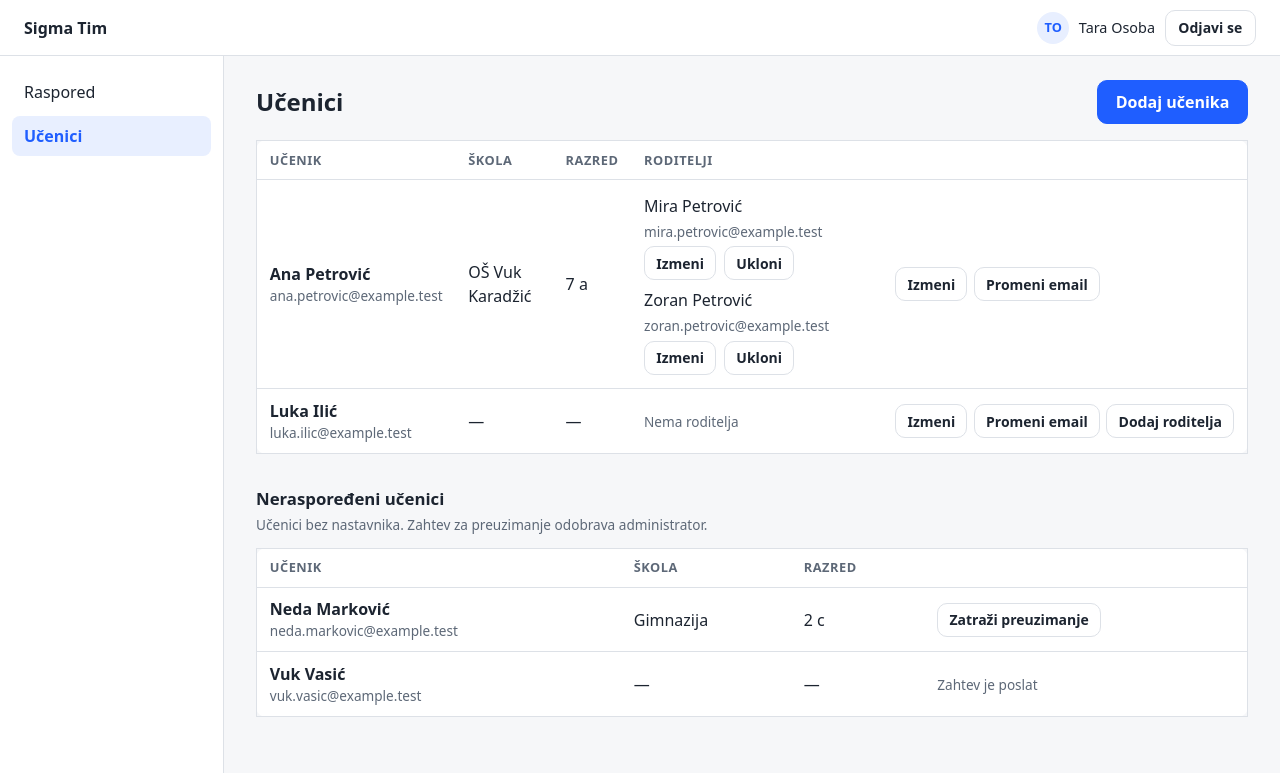
Test: the teacher's students › parents › adds a parent to a student
Click the button with aria-label "Dodaj roditelja učeniku Luka Ilić". click: (1170,421)
box: [1106,404,1234,438]
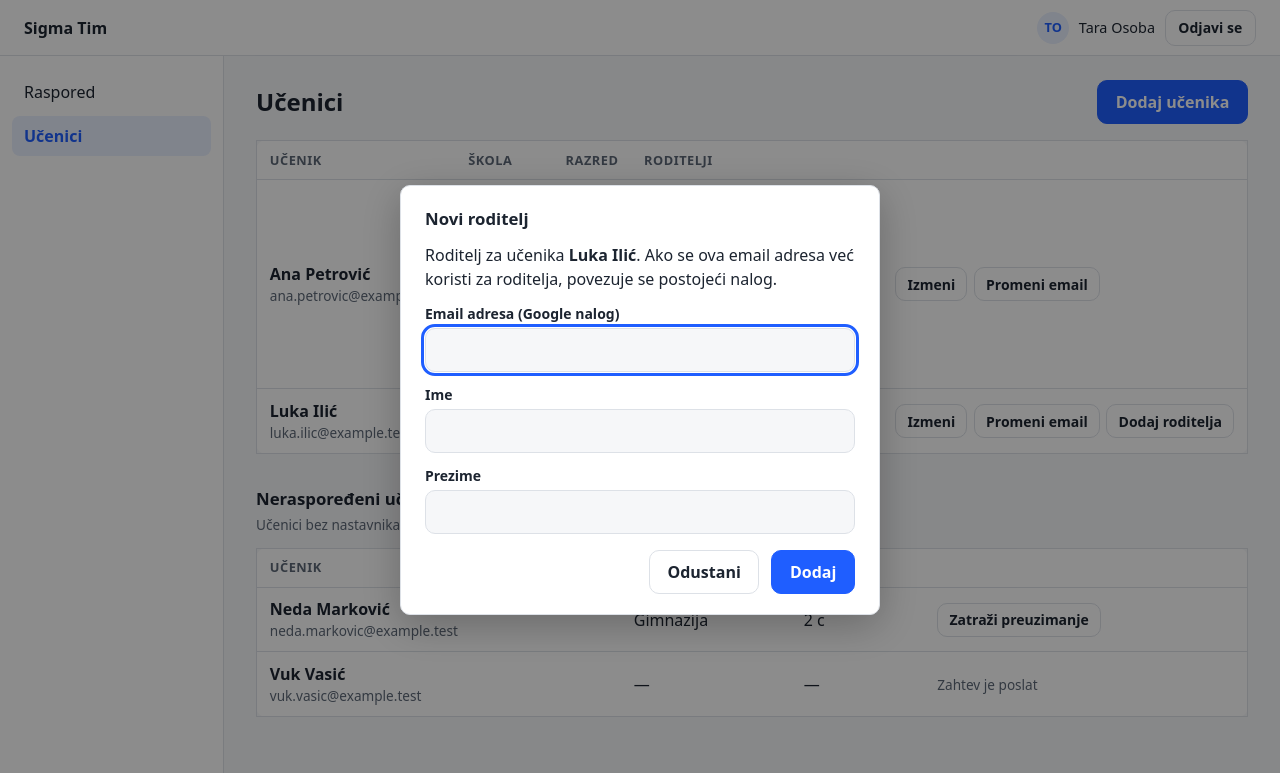
Type "Jelena.Ilic@example.test" into the field labelled "Email adresa (Google nalog)". click: (640,350)
box: [425,328,855,372]
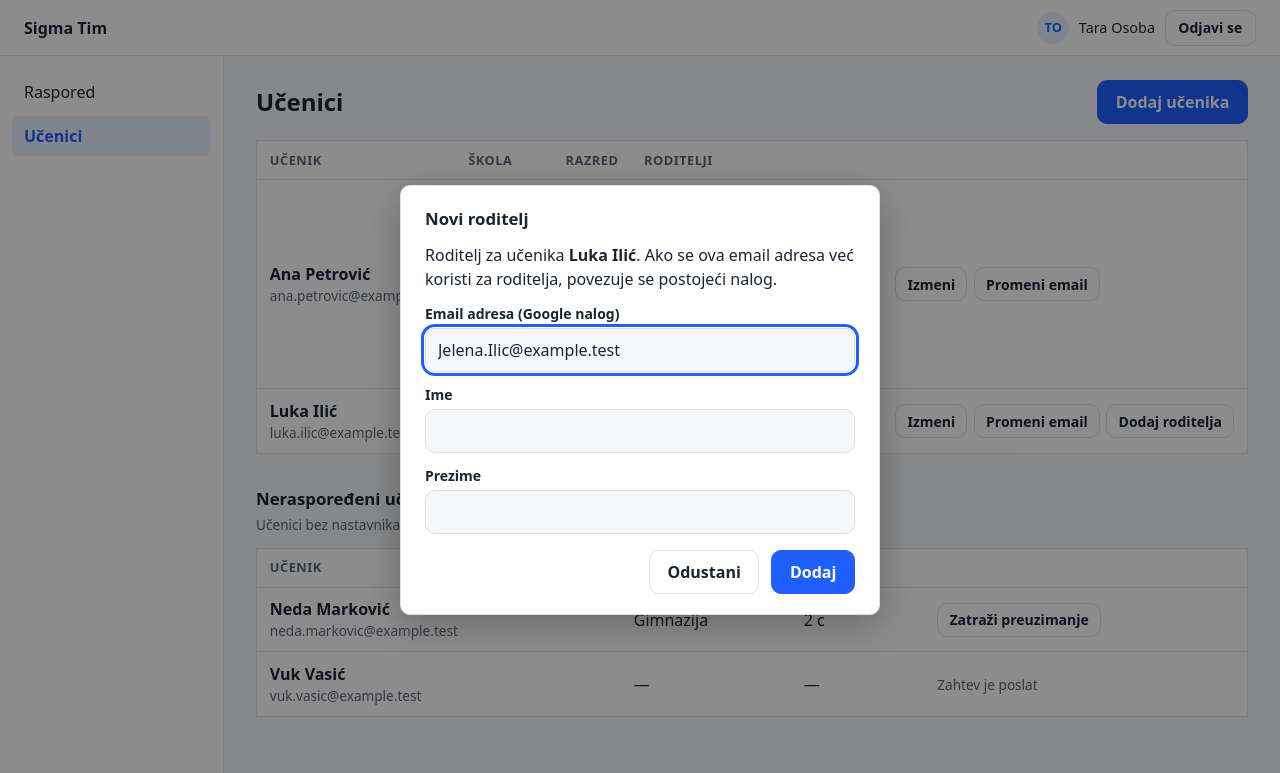
Type "Jelena" into the field labelled "Ime". click: (640,431)
box: [425,409,855,453]
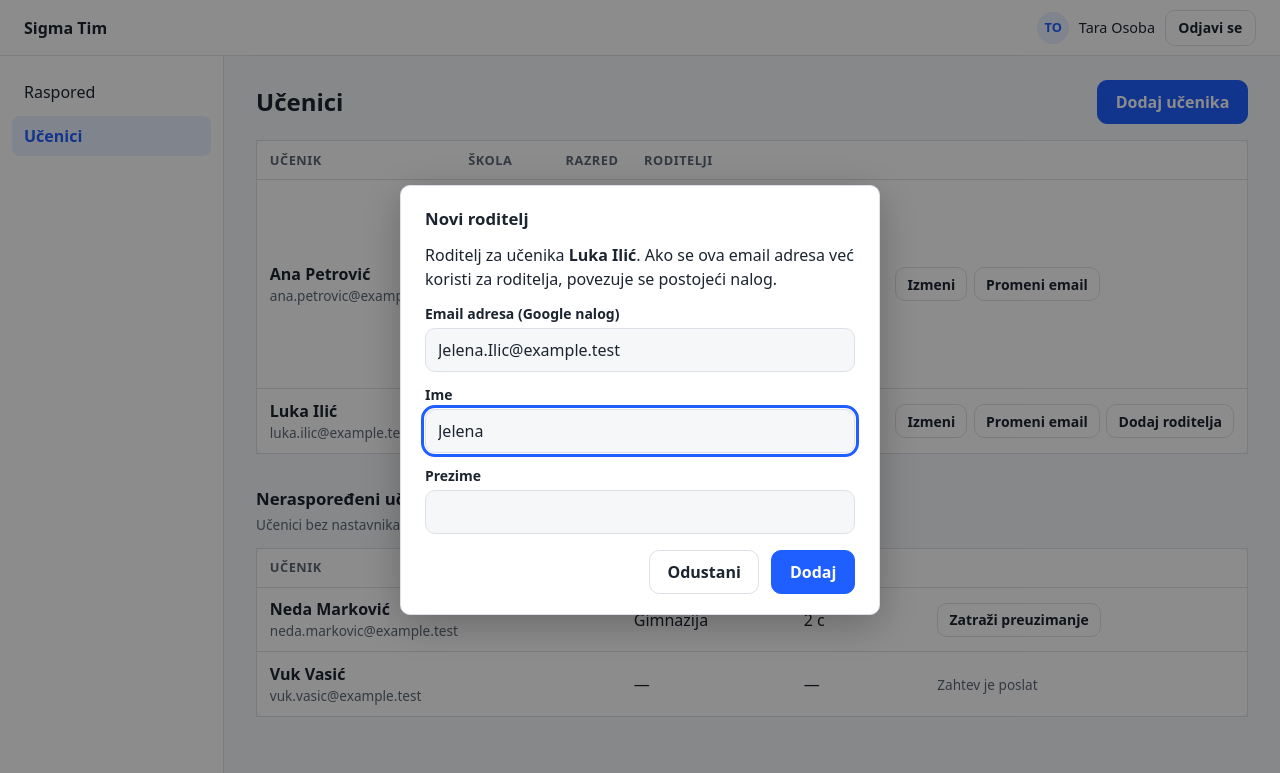
Type "Ilić" into the field labelled "Prezime". click: (640,512)
box: [425,490,855,534]
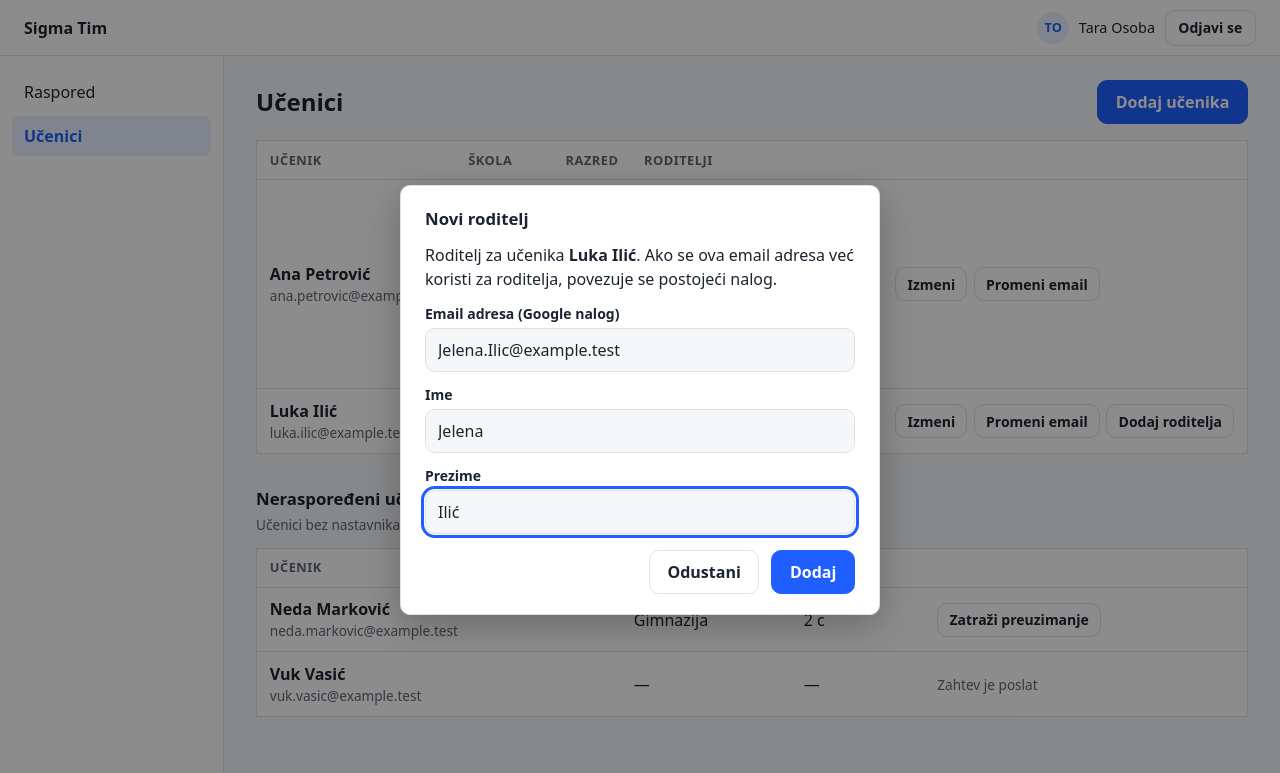
Click the button "Dodaj". click: (813,572)
box: [771,550,855,594]
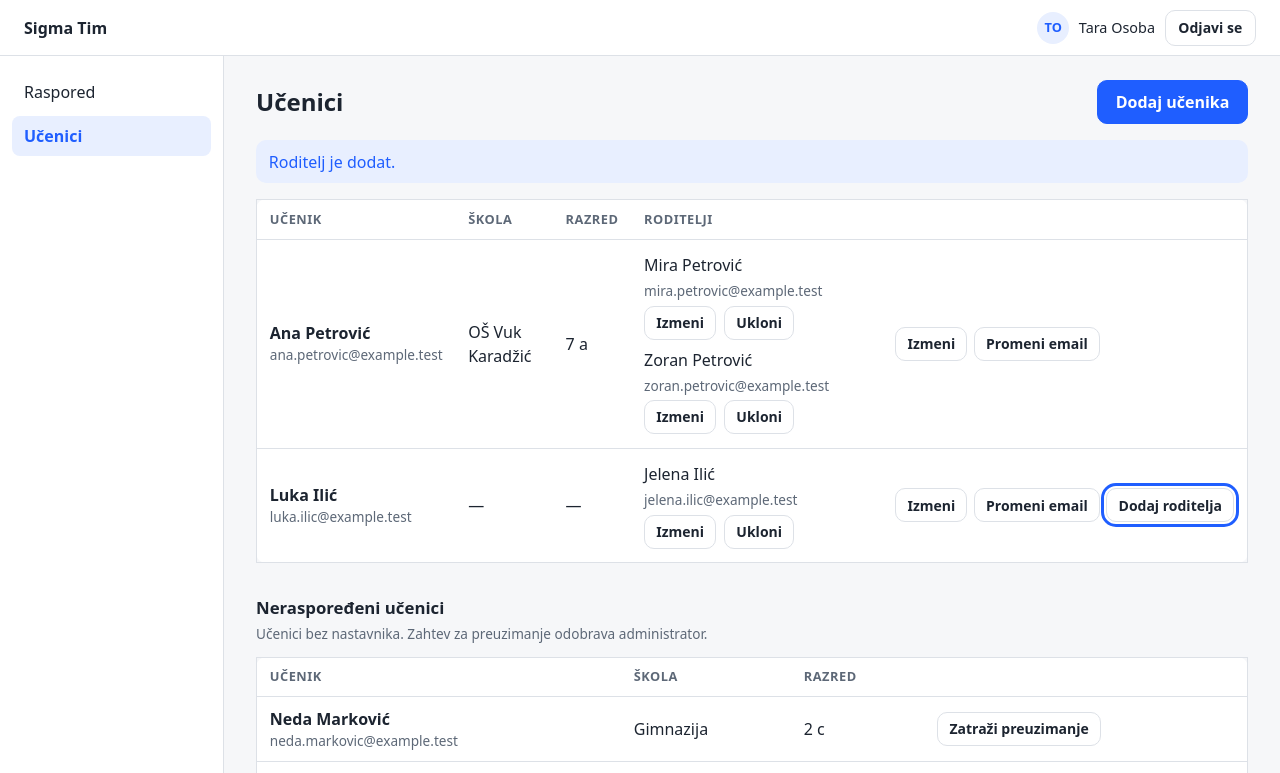
Expected: the text "Jelena Ilić" is shown, [644,462,715,486]
Expected: the message reads "Roditelj je dodat.", [269,151,395,173]
